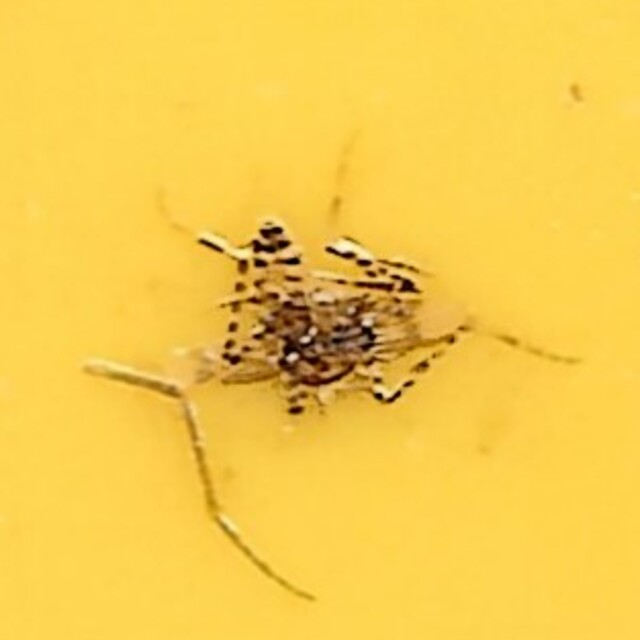Nematocera: (204, 218, 436, 422)
